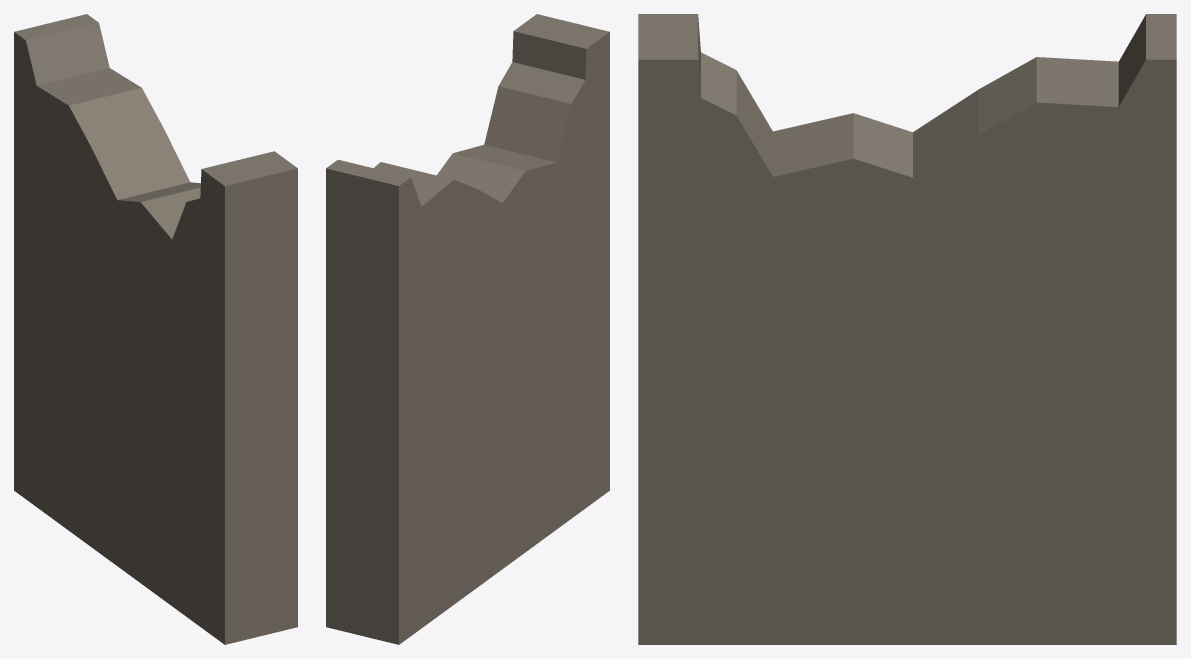
The model's file is Wall_A_2_1.glb.
The picture shows the model from 3 angles, left to right: view 1: azimuth 30°, elevation 25°; view 2: azimuth 150°, elevation 25°; view 3: azimuth 270°, elevation 25°; orthographic projection. The views are drawn at different scales.
Parts seen in each view (by area): view 1: Wall_A_2_1; view 2: Wall_A_2_1; view 3: Wall_A_2_1.
Boxes of the visible parts, left/top/right/bottom form: Wall_A_2_1: left=14, top=14, right=297, bottom=644; Wall_A_2_1: left=326, top=14, right=609, bottom=644; Wall_A_2_1: left=638, top=14, right=1176, bottom=644.
Bounding box in the file's own units: 0.4 × 2.4 × 2.
Materials: 1 (1 with a texture image).
